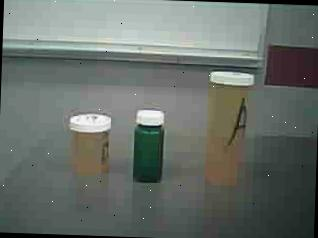Bottle A: (200, 66, 258, 197)
Bottle B: (66, 108, 117, 180)
Bottle C: (126, 104, 171, 190)
